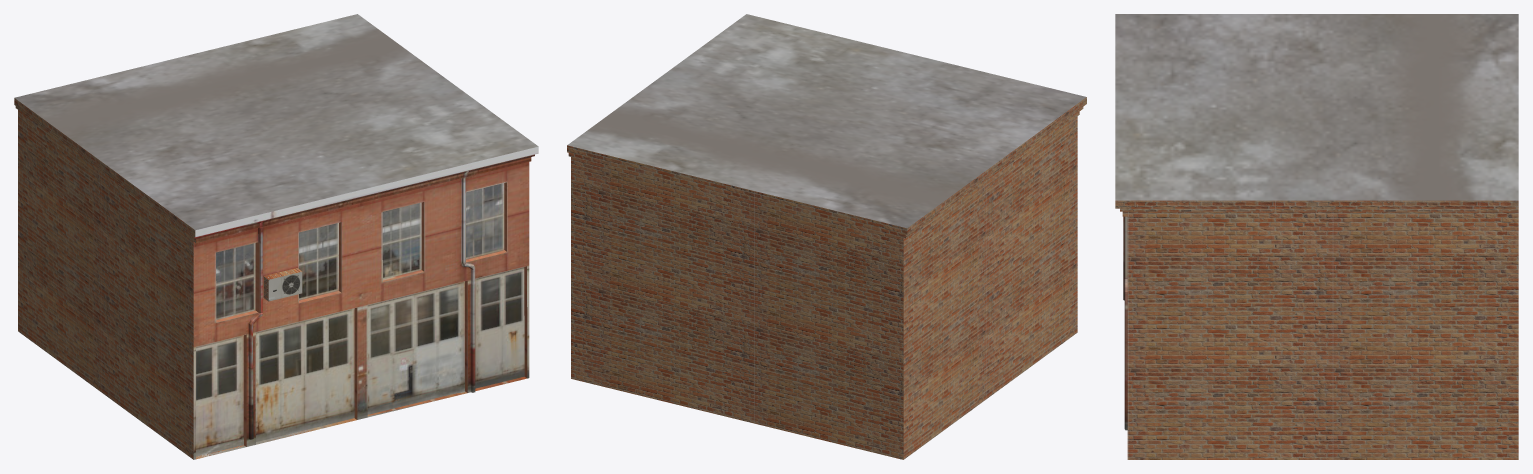
Rendered from GARAGE.fbx.
3 renders of one model, left to right at view 1: azimuth 30°, elevation 25°; view 2: azimuth 150°, elevation 25°; view 3: azimuth 270°, elevation 25°, orthographic. The views are drawn at different scales.
Visible parts, largest first — view 1: GARAGE; view 2: GARAGE; view 3: GARAGE.
Boxes of the visible parts, <box> form: GARAGE: <box>14,14,538,459</box>; GARAGE: <box>567,14,1086,459</box>; GARAGE: <box>1115,14,1518,459</box>.
Size of the model in its own units: 924 by 603 by 844.
